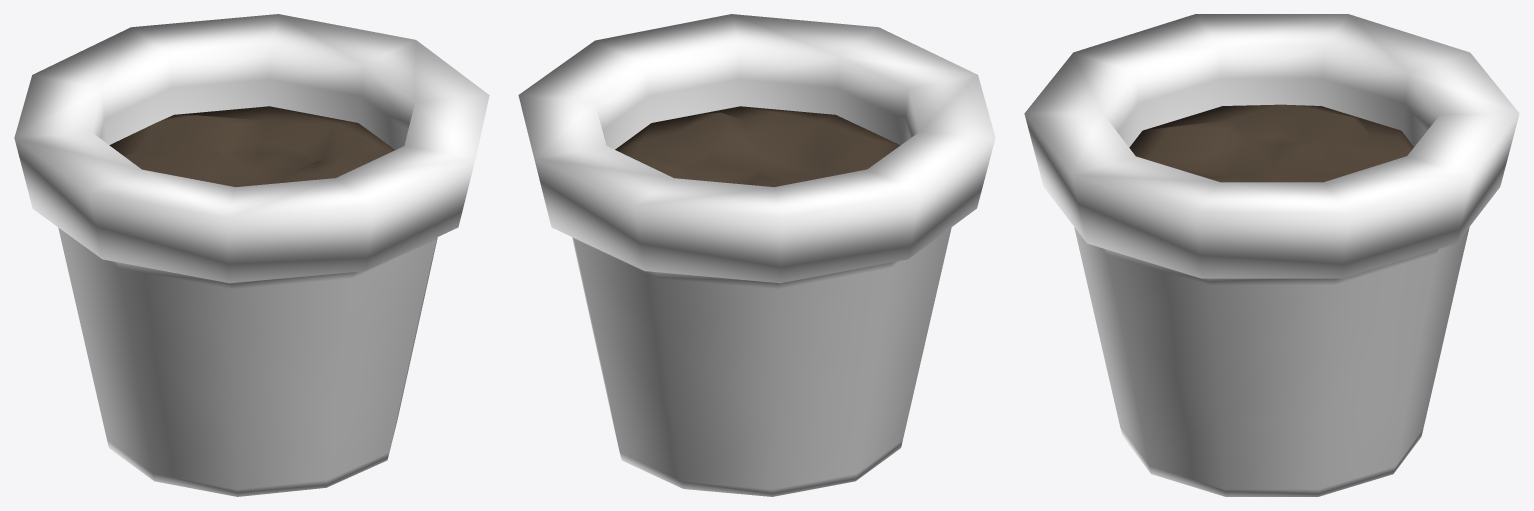
Rendered from Plant_Pot.fbx.
3 views of the same model, side by side, from view 1: azimuth 30°, elevation 25°; view 2: azimuth 150°, elevation 25°; view 3: azimuth 270°, elevation 25° (orthographic).
Visible parts, largest first — view 1: Pot Fixed, Soil Healthy; view 2: Pot Fixed, Soil Healthy; view 3: Pot Fixed, Soil Healthy.
Boxes of the visible parts, x1,y1,x2,y2 form: Pot Fixed: [14, 14, 489, 496]; Soil Healthy: [109, 106, 395, 187]; Pot Fixed: [518, 14, 995, 496]; Soil Healthy: [615, 106, 900, 187]; Pot Fixed: [1024, 14, 1519, 496]; Soil Healthy: [1129, 104, 1413, 182].
Size of the model in its own units: 197 by 149 by 207.
